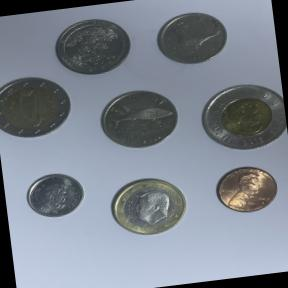1 Euro-B: (102, 169, 196, 243)
2 Euro-B: (0, 70, 77, 146)
Canada-10cent-B: (21, 166, 90, 224)
Canada-2Dollar-B: (190, 74, 288, 164)
Croatia-2Kune-B: (90, 82, 188, 162)
US-1cent-B: (209, 159, 286, 220)
US-25cent-B: (48, 12, 138, 82)
